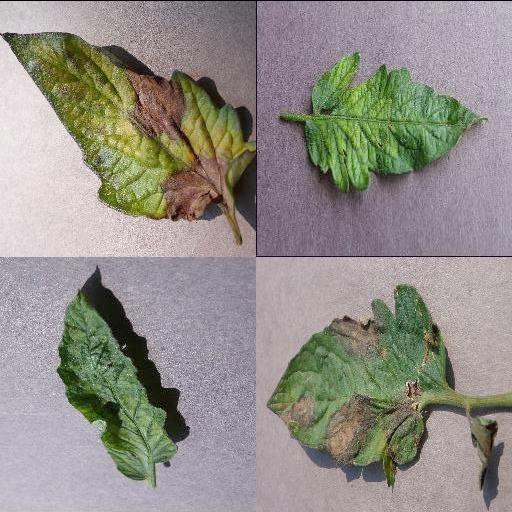Late Blight: (0, 31, 256, 221), (268, 282, 450, 484)
Mosaic Virus: (304, 49, 490, 193), (55, 287, 179, 480)
